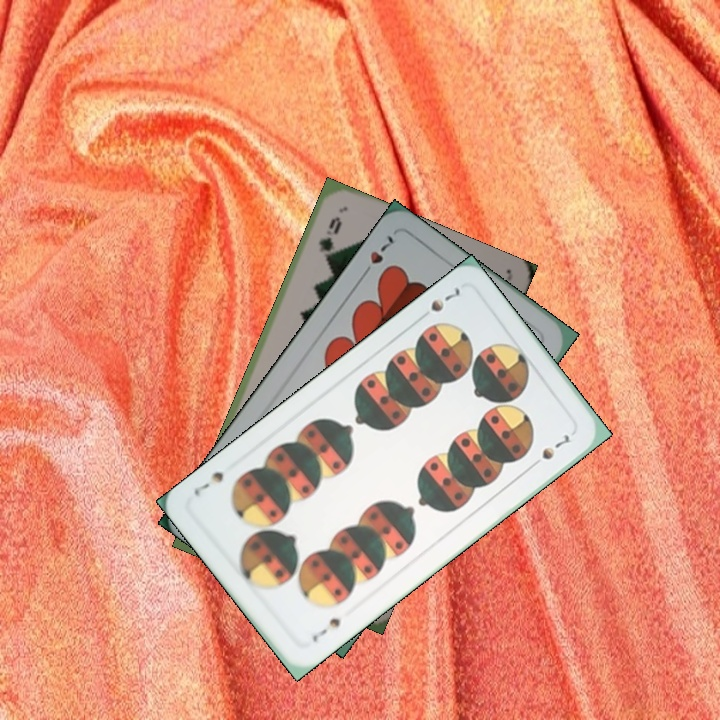G9: (314, 213, 345, 263)
H7: (357, 230, 397, 281)
S7: (426, 283, 463, 315), (308, 613, 343, 645)
